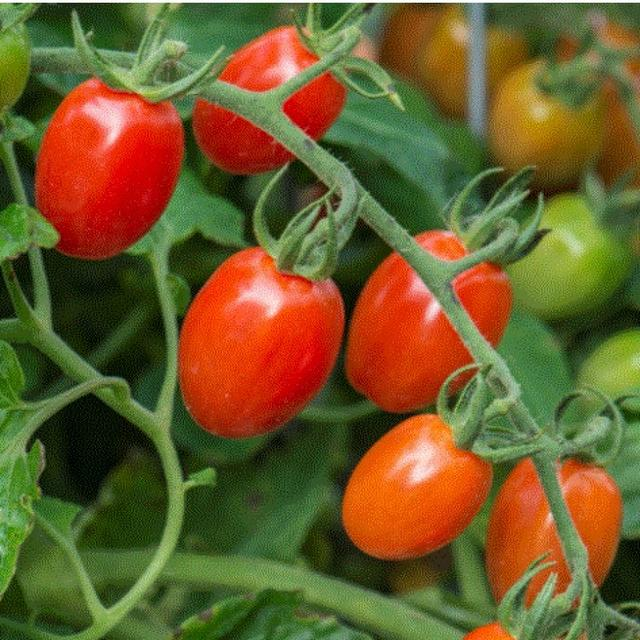Healthy Fruit: (9, 63, 376, 352)
